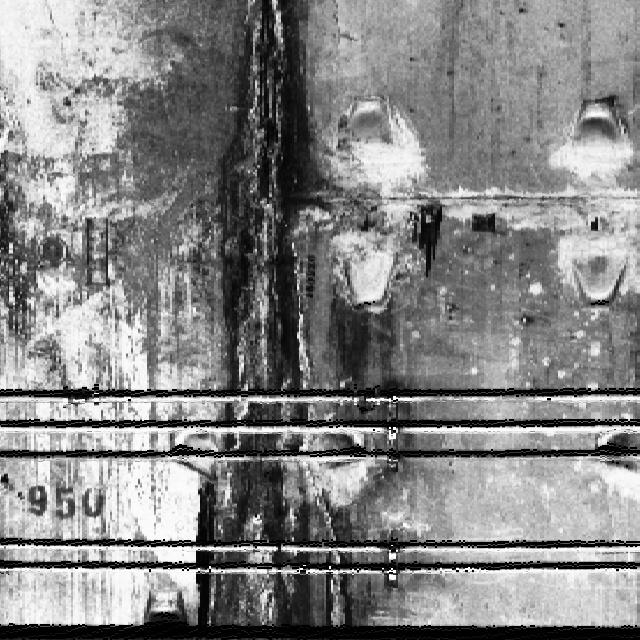leakage: (155, 0, 413, 625)
